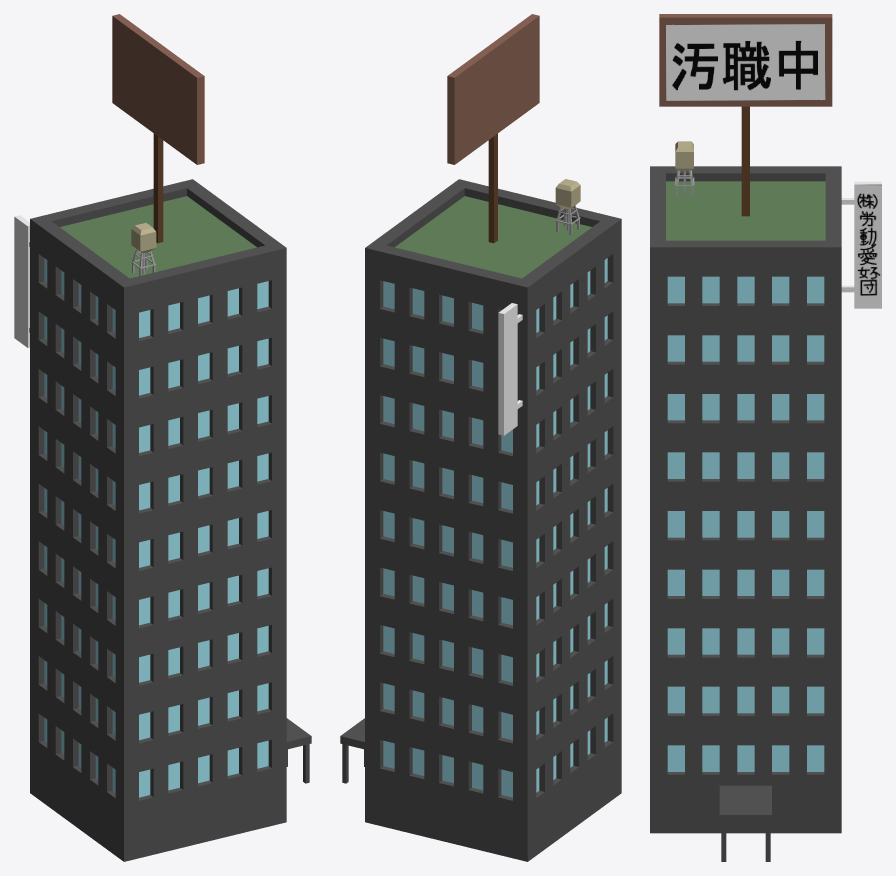
File: build1.fbx
The picture shows the model from 3 angles, left to right: view 1: azimuth 30°, elevation 25°; view 2: azimuth 150°, elevation 25°; view 3: azimuth 270°, elevation 25°; orthographic projection.
Visible parts, largest first — view 1: building, sign; view 2: building, sign; view 3: building, sign.
Boxes of the visible parts, bbox=[...] form: building: bbox=[14, 179, 311, 861]; sign: bbox=[112, 14, 204, 243]; building: bbox=[340, 179, 621, 861]; sign: bbox=[447, 14, 539, 243]; building: bbox=[650, 141, 881, 861]; sign: bbox=[659, 14, 832, 216].
Size of the model in its own units: 394 by 444 by 1459.
